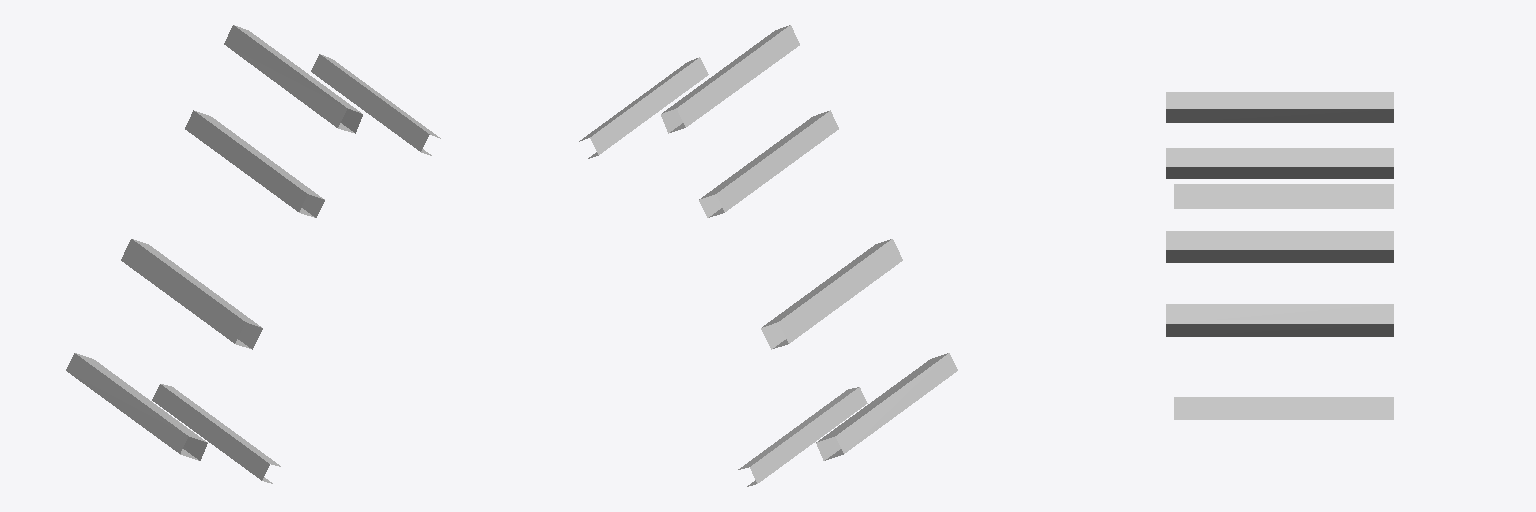
Rendered from polygon804.obj.
3 views of the same model, side by side, from view 1: azimuth 30°, elevation 25°; view 2: azimuth 150°, elevation 25°; view 3: azimuth 270°, elevation 25° (orthographic).
Visible parts, largest first — view 1: polygon804; view 2: polygon804; view 3: polygon804.
Part boxes in pixels (left/top/right/bottom): polygon804: left=66, top=25, right=440, bottom=483; polygon804: left=579, top=25, right=957, bottom=486; polygon804: left=1166, top=92, right=1393, bottom=419.
Bounding box in the file's own units: 106 × 137 × 78.55.